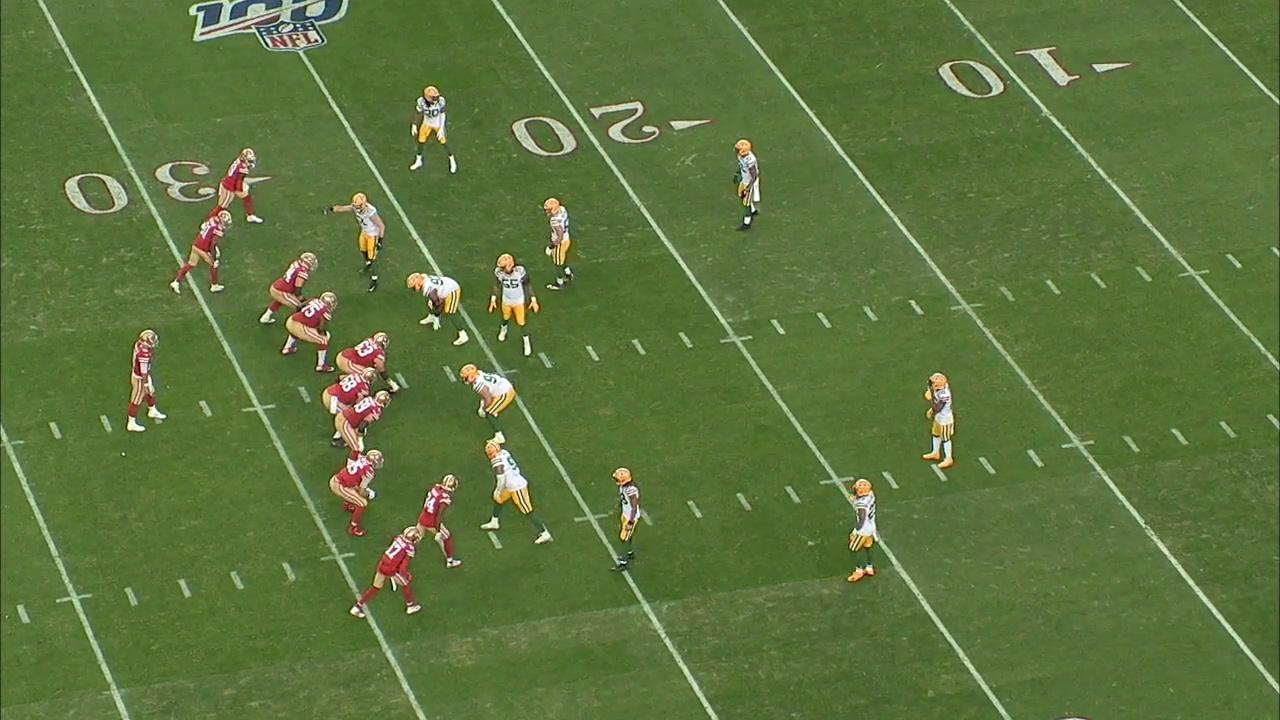defense: (481, 439, 549, 544), (332, 193, 384, 292), (840, 474, 883, 586), (403, 82, 454, 176), (457, 365, 514, 444), (406, 272, 466, 345), (608, 464, 644, 581), (542, 189, 581, 297), (492, 256, 534, 347), (922, 370, 958, 473), (727, 136, 765, 232)
oline: (281, 293, 341, 371), (337, 392, 394, 470), (259, 253, 319, 326), (323, 367, 376, 449), (334, 331, 401, 394)
qb: (117, 320, 171, 433)
skill: (350, 526, 416, 618), (166, 207, 234, 295), (200, 144, 264, 227), (327, 448, 382, 540), (415, 475, 463, 574)
